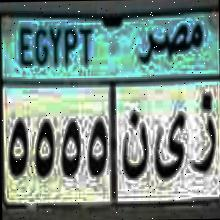5: (6, 113, 30, 186), (31, 118, 56, 186), (58, 114, 82, 184), (86, 117, 108, 183)
noon: (120, 106, 148, 184)
yaa: (150, 106, 188, 186)
zay: (190, 89, 216, 185)
